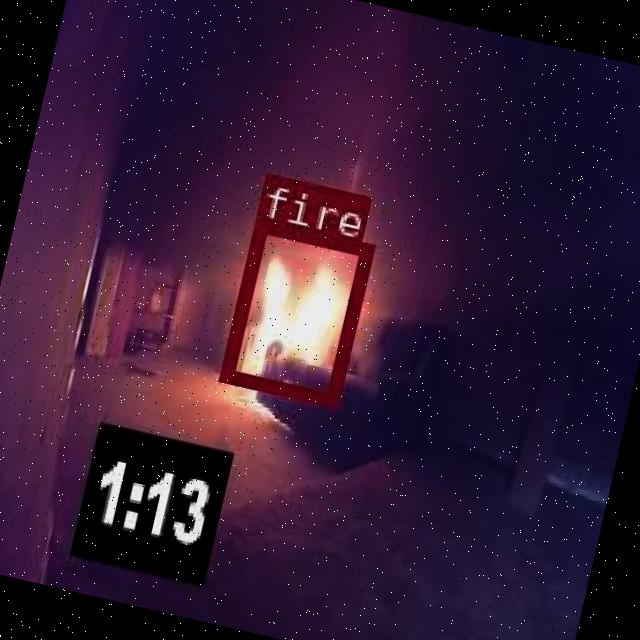fire: (218, 217, 371, 406)
